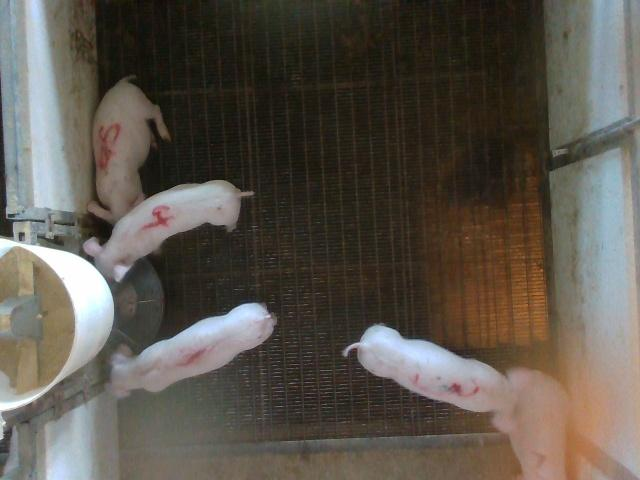pig-1: (110, 304, 275, 398)
pig-3: (342, 325, 541, 433)
pig-4: (84, 180, 254, 281)
pig-5: (88, 75, 170, 224)
